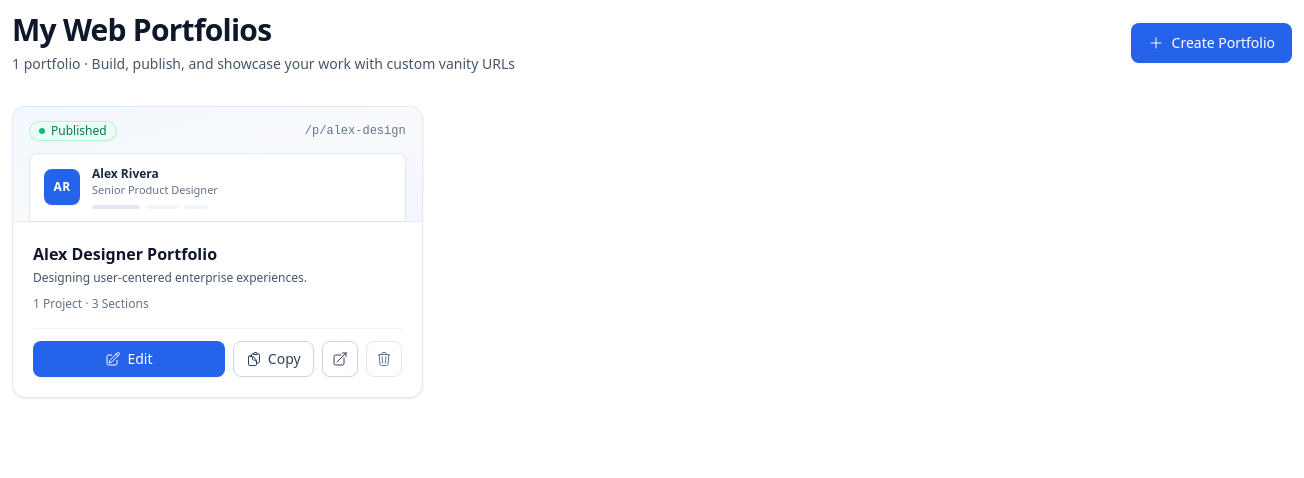
it: Frontend Portfolio Platform Components › PortfolioList Component › supports confirm-based deletion and updates count
The image size is (1304, 478).
Expected: the element with test id "portfolio-card" is shown, [12,106,423,398]
Click the button named "delete portfolio" at (384, 358), box [366,340,402,376]
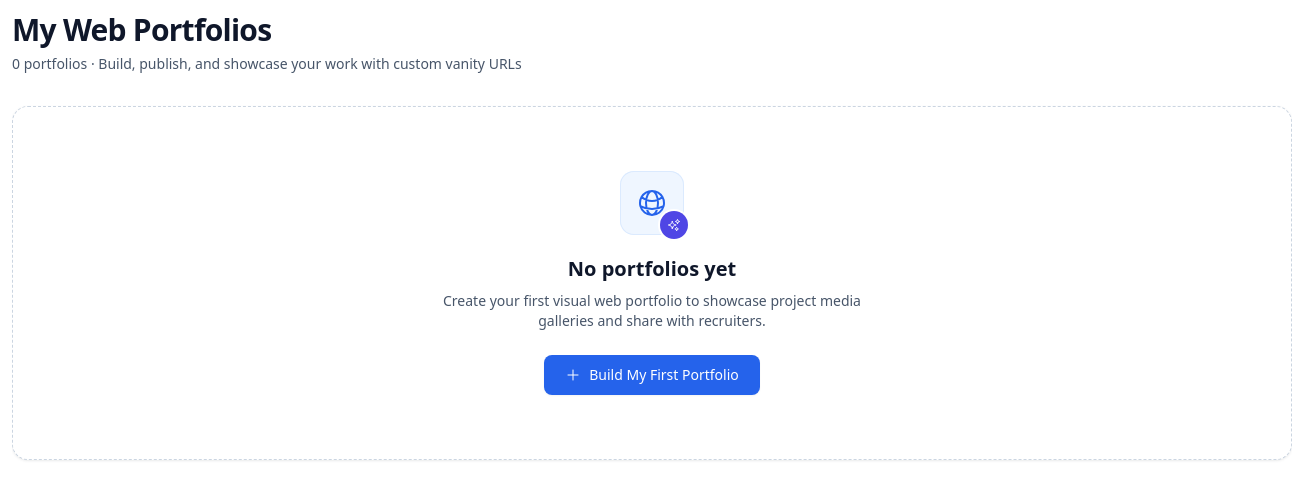
Expected: the element with test id "portfolio-empty-state" is shown
